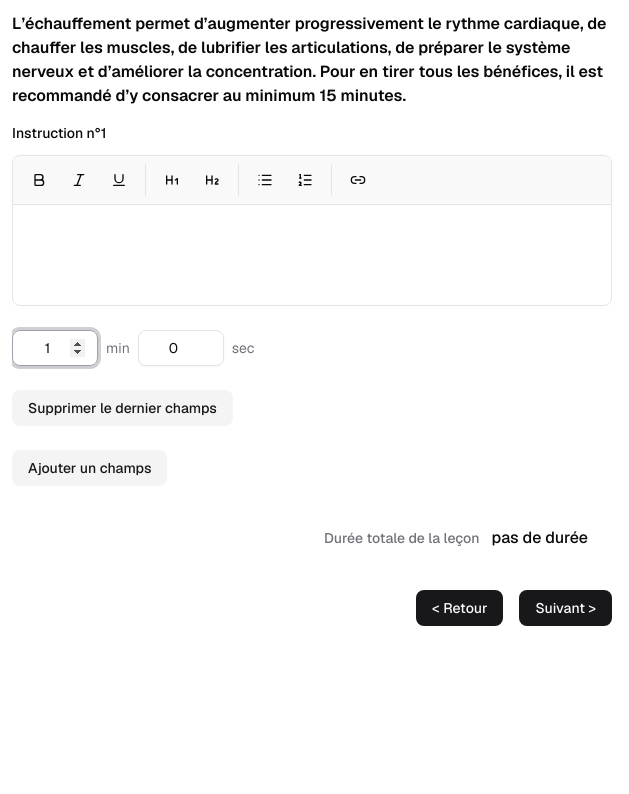
Test: WarmUp page › with custom: click on "ajouter champs" adds an Instruction component
This screenshot has width=629, height=794.
Expected: the text "Instruction n°1" is shown, [12,124,106,142]
Expected: the text "Instruction n°2" is not shown
Click the button "Ajouter un champs" at [90, 468], box [12,450,167,486]
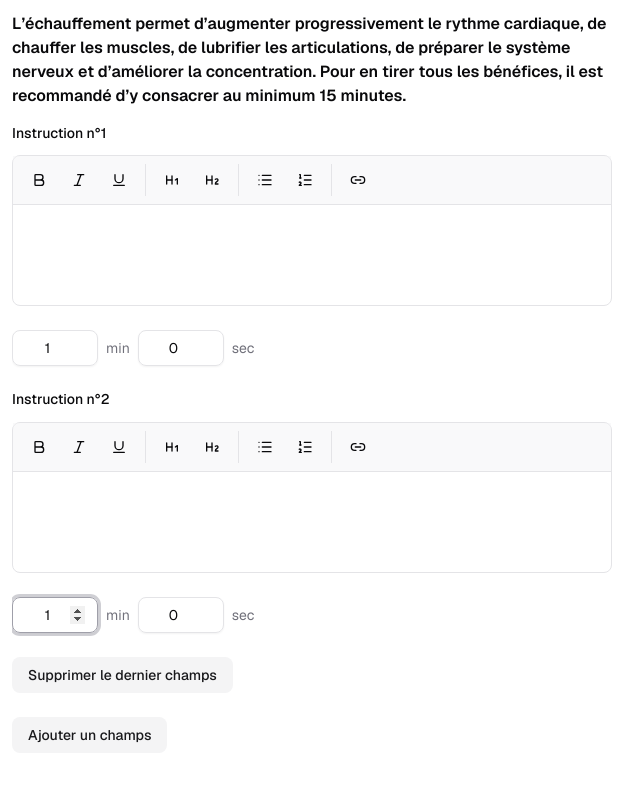
Expected: the text "Instruction n°1" is shown, [12,124,106,142]
Expected: the text "Instruction n°2" is shown, [12,390,110,408]
